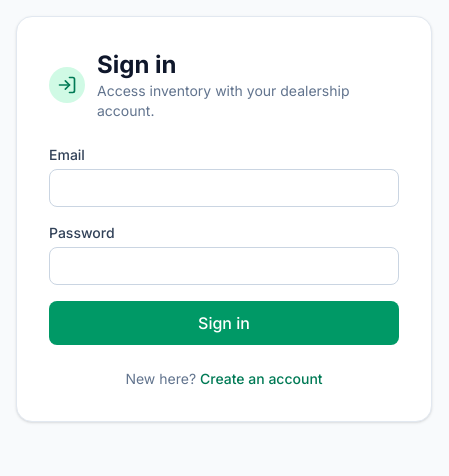
Scenario: Login page › shows an error when credentials are rejected
Type "wrong@example.com" into the field labelled "Email" at (224, 188), box x1=49 y1=169 x2=399 y2=207
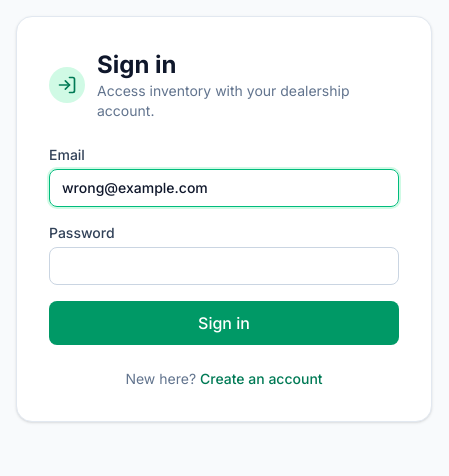
Type "wrong-password" into the password field labelled "Password" at (224, 266), box x1=49 y1=247 x2=399 y2=285
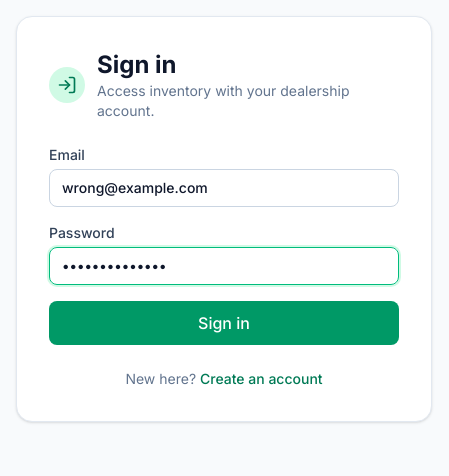
Click the button "Sign in" at (224, 323), box x1=49 y1=301 x2=399 y2=345
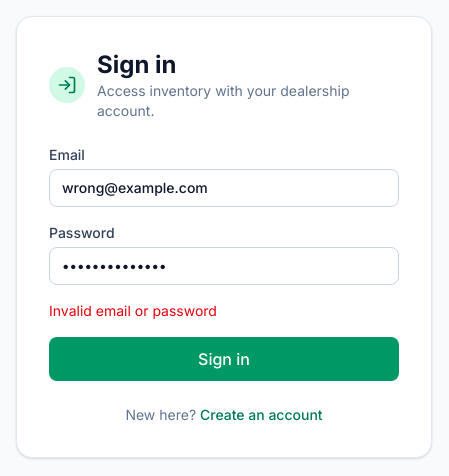
Expected: the text "Invalid email or password" is shown, x1=49 y1=302 x2=217 y2=319
